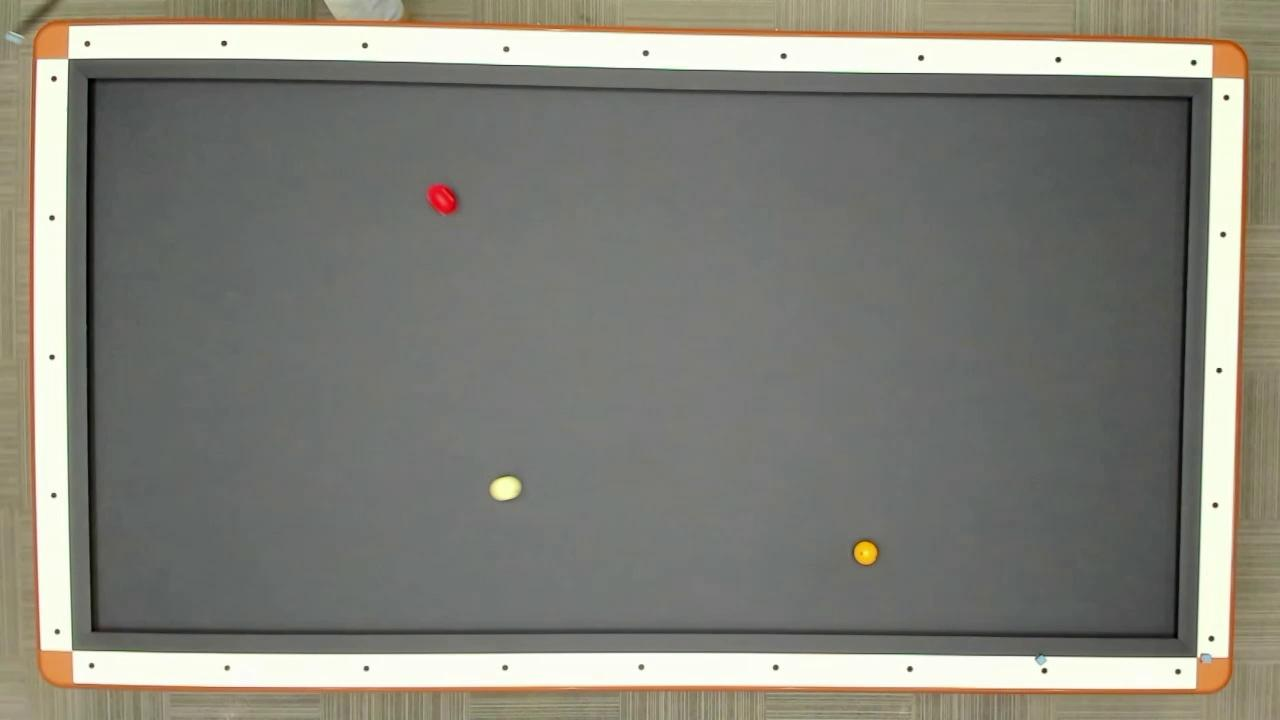Red: (424, 184, 462, 218)
White: (486, 474, 525, 503)
Yellow: (851, 538, 880, 569)
